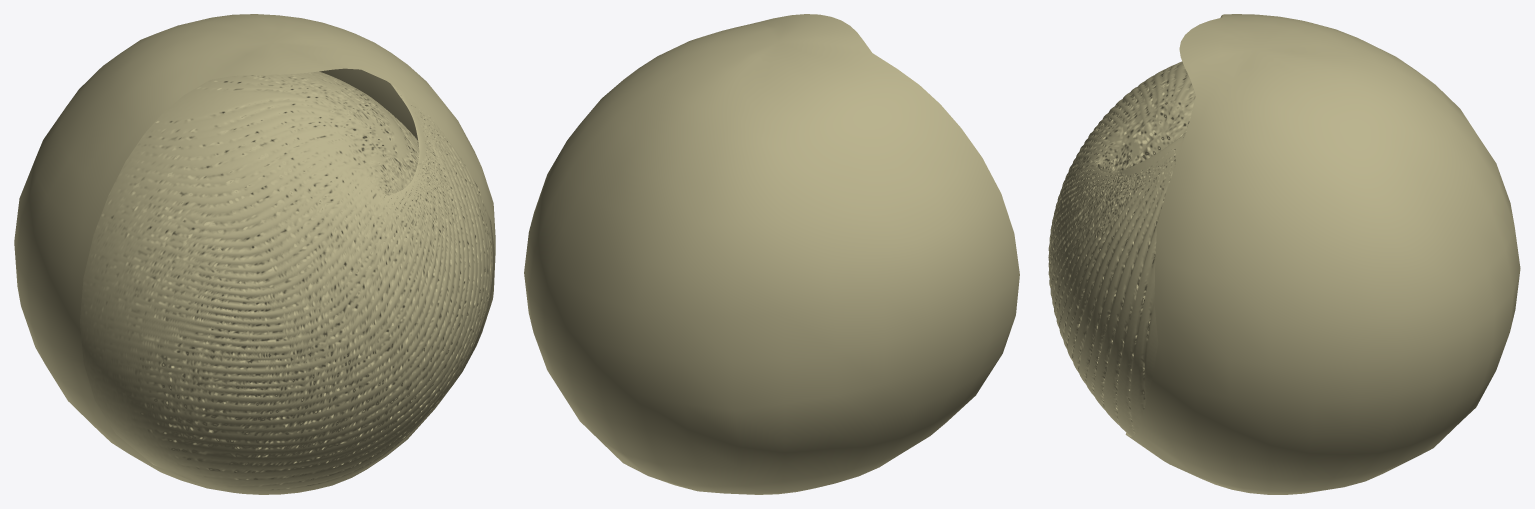
3 views of the same model, side by side, from view 1: azimuth 30°, elevation 25°; view 2: azimuth 150°, elevation 25°; view 3: azimuth 270°, elevation 25° (orthographic). The views are drawn at different scales.
Visible parts, largest first — view 1: circle_cut_001001, Sphere; view 2: Sphere; view 3: Sphere, circle_cut_001001.
Part boxes in pixels (bbox=[...]): circle_cut_001001: bbox=[80, 71, 492, 491]; Sphere: bbox=[14, 14, 495, 494]; Sphere: bbox=[524, 14, 1019, 494]; Sphere: bbox=[1125, 14, 1520, 494]; circle_cut_001001: bbox=[1048, 61, 1195, 436].
Bounding box in the file's own units: 2.44 × 2.33 × 2.38.
